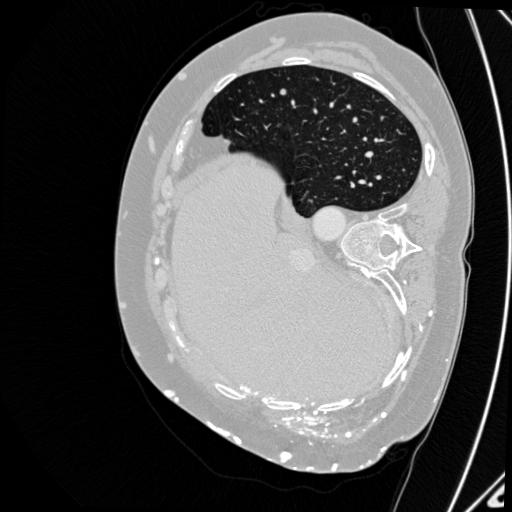nodule: (278, 87, 289, 98)
